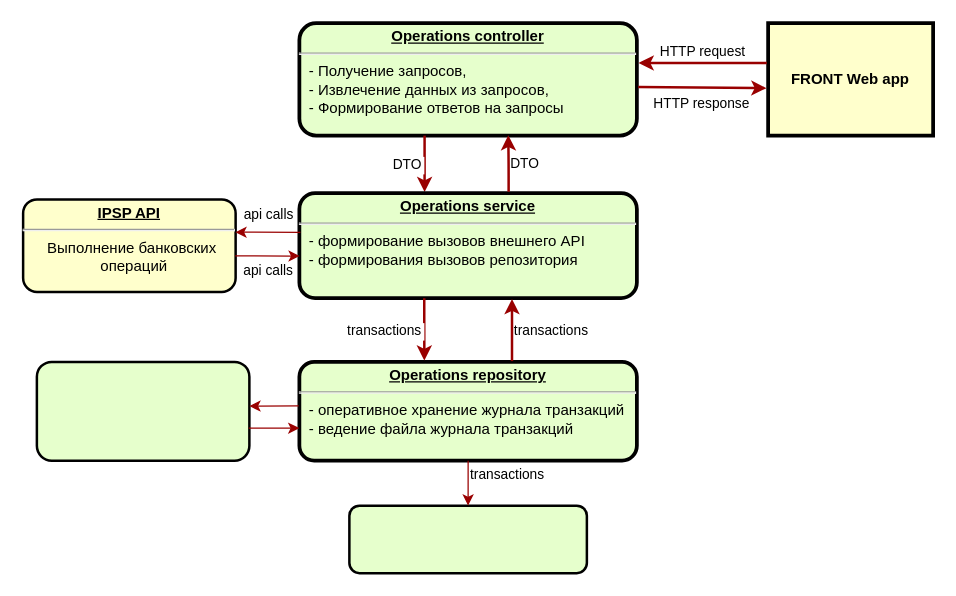
Some shapes in this 956 by 596 pixel diagram are drawn without their labels. Each missing label, with the centre of its shape:
Transactionlog file - файл журнала транзакций: the point at 468,539
Transactionlog in memory - оперативное хранение журнала транзакций: the point at 142,410
